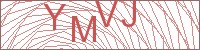J: (121, 1, 138, 28)
M: (69, 14, 98, 44)
V: (94, 1, 120, 31)
Y: (43, 1, 67, 32)
